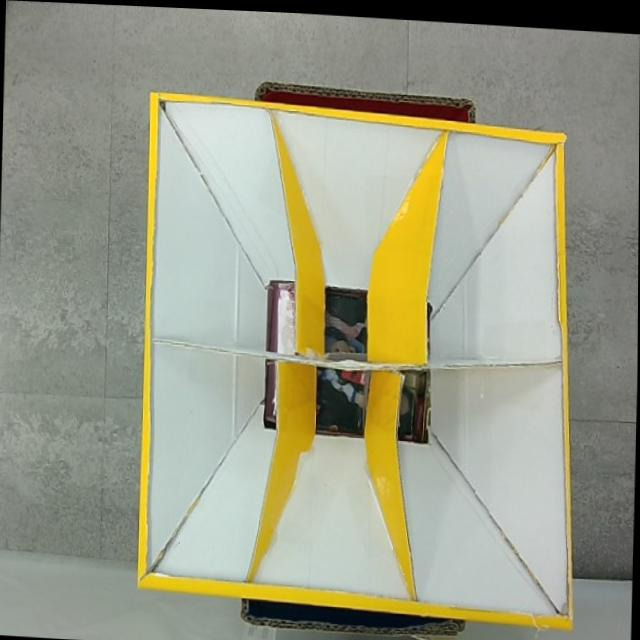box: (135, 70, 586, 640)
